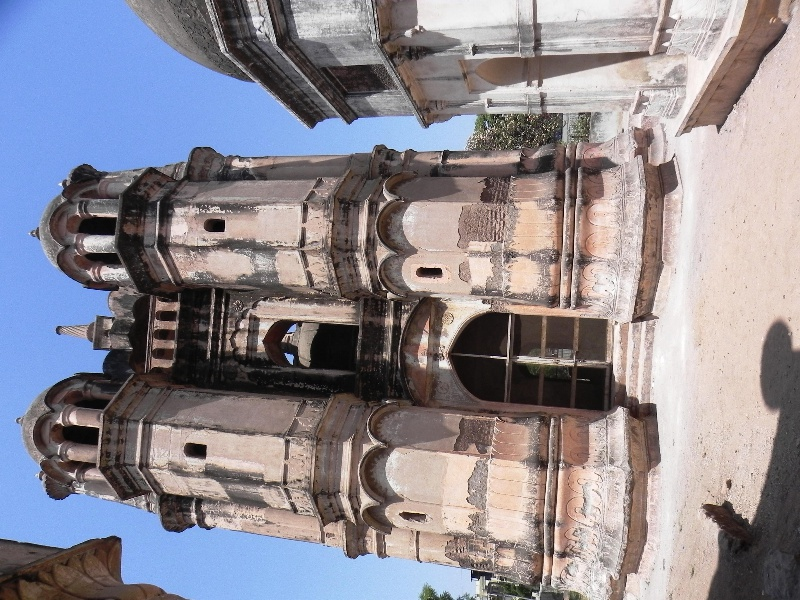Exposed Bricks: (488, 171, 507, 240)
Spalling: (452, 411, 500, 573), (454, 196, 483, 242), (456, 255, 475, 283)
